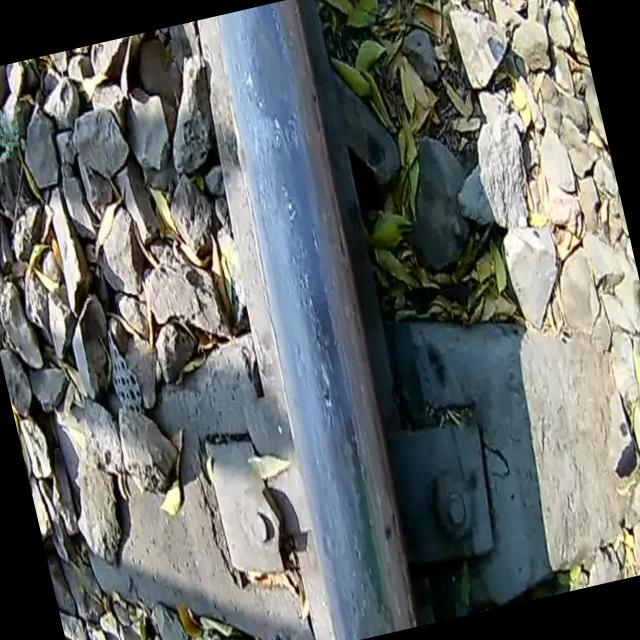Squats: (184, 0, 361, 165), (304, 563, 451, 640)
